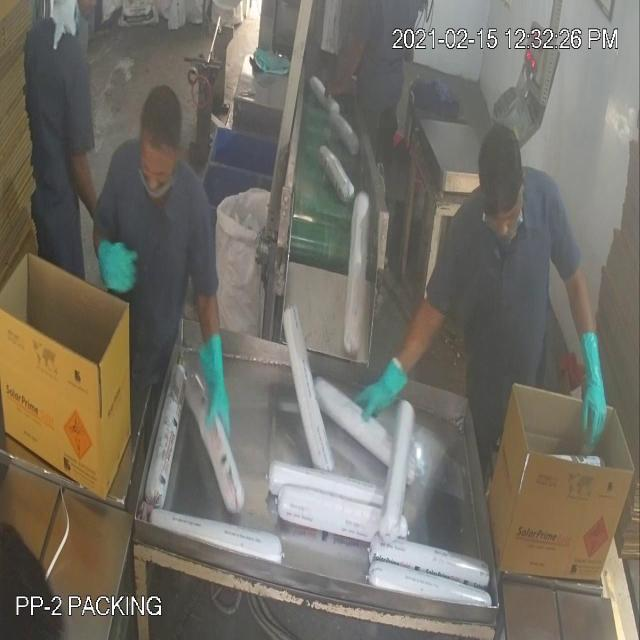gloves: (340, 348, 426, 448), (184, 314, 242, 455), (567, 325, 617, 457), (89, 226, 143, 297)
no-gloves: (315, 31, 374, 106), (62, 136, 98, 212)
